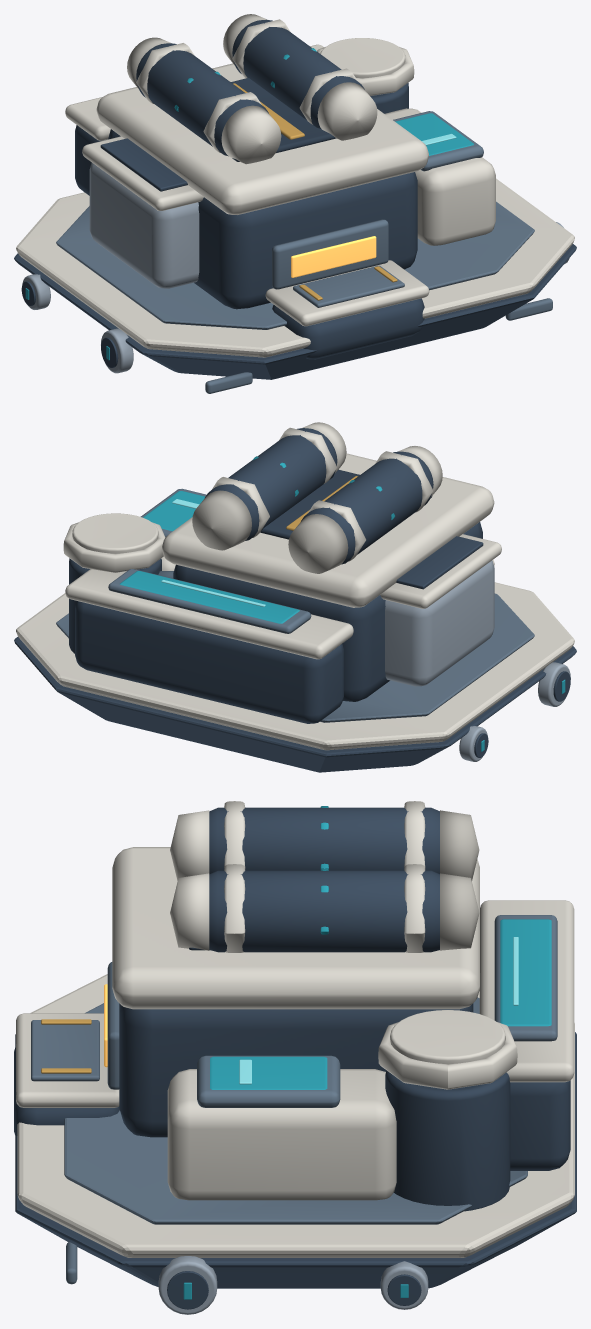
The model's file is interstellar_refinery_lv4.glb.
The picture shows the model from 3 angles, top to bottom: view 1: azimuth 30°, elevation 25°; view 2: azimuth 150°, elevation 25°; view 3: azimuth 270°, elevation 25°; orthographic projection. The views are drawn at different scales.
Parts seen in each view (by area): view 1: Structure; view 2: Structure; view 3: Structure.
Boxes of the visible parts, box(x1,y1,x2,y2) form: Structure: box(14, 14, 576, 393); Structure: box(14, 422, 576, 772); Structure: box(14, 801, 576, 1314).
Size of the model in its own units: 7.69 by 3.79 by 6.12.
